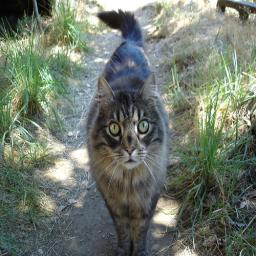catnose: (124, 146, 136, 156)
